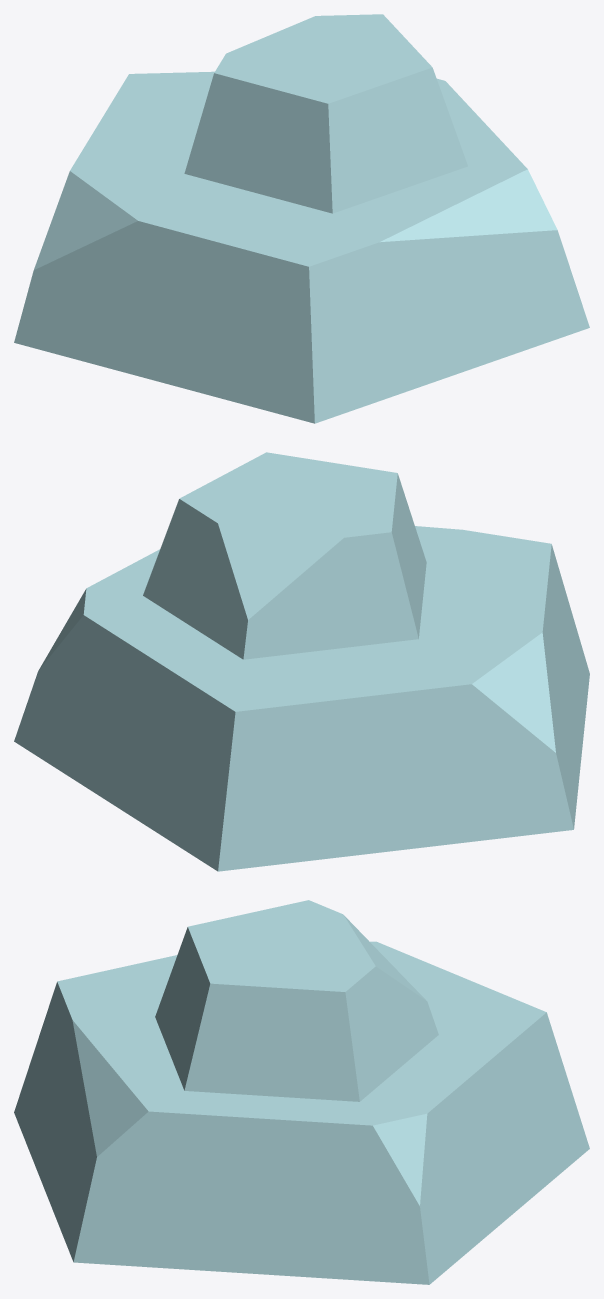
File: stone_smallTopA.dae
3 renders of one model, top to bottom at view 1: azimuth 30°, elevation 25°; view 2: azimuth 150°, elevation 25°; view 3: azimuth 270°, elevation 25°, orthographic. The views are drawn at different scales.
Parts seen in each view (by area): view 1: stone_smallTopA; view 2: stone_smallTopA; view 3: stone_smallTopA.
Boxes of the visible parts, x1,y1,x2,y2 form: stone_smallTopA: (14,14,589,423); stone_smallTopA: (14,452,589,871); stone_smallTopA: (14,900,589,1284).
Size of the model in its own units: 0.4877 by 0.22 by 0.4891.
